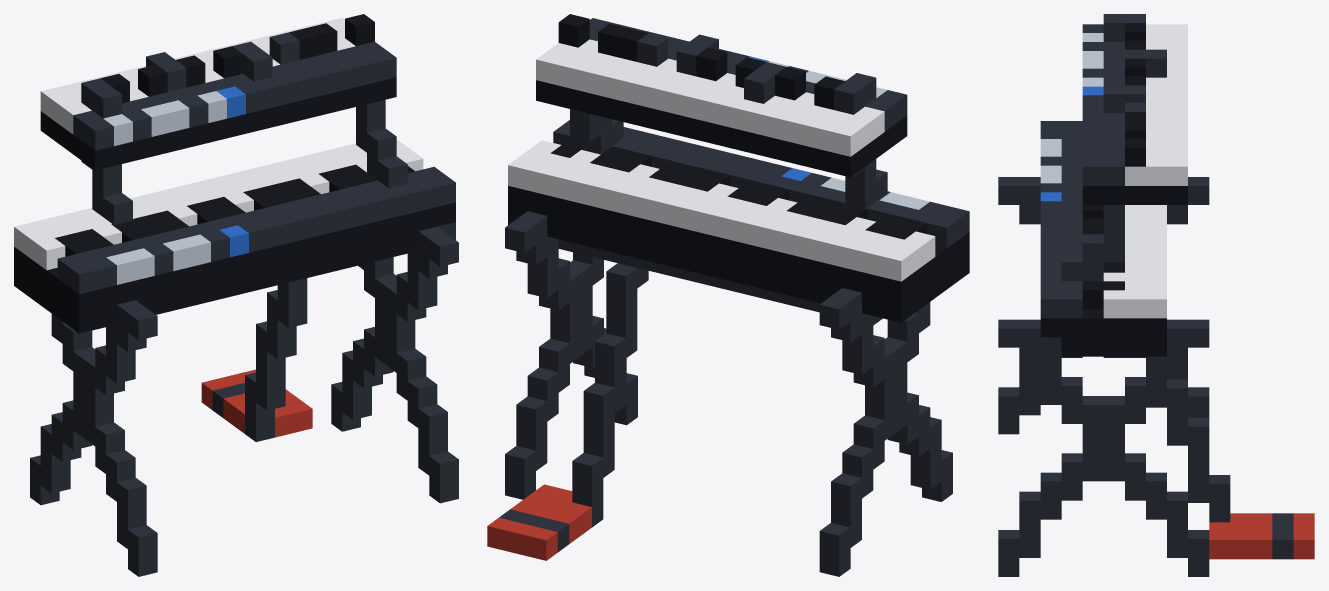
The model's file is keys.glb.
3 renders of one model, left to right at view 1: azimuth 30°, elevation 25°; view 2: azimuth 150°, elevation 25°; view 3: azimuth 270°, elevation 25°, orthographic. The views are drawn at different scales.
Parts seen in each view (by area): view 1: keys; view 2: keys; view 3: keys.
Part boxes in pixels (bbox=[...]): keys: bbox=[14, 14, 458, 576]; keys: bbox=[487, 14, 969, 576]; keys: bbox=[998, 14, 1314, 576].
Bounding box in the file's own units: 1 × 1.1 × 0.75.
